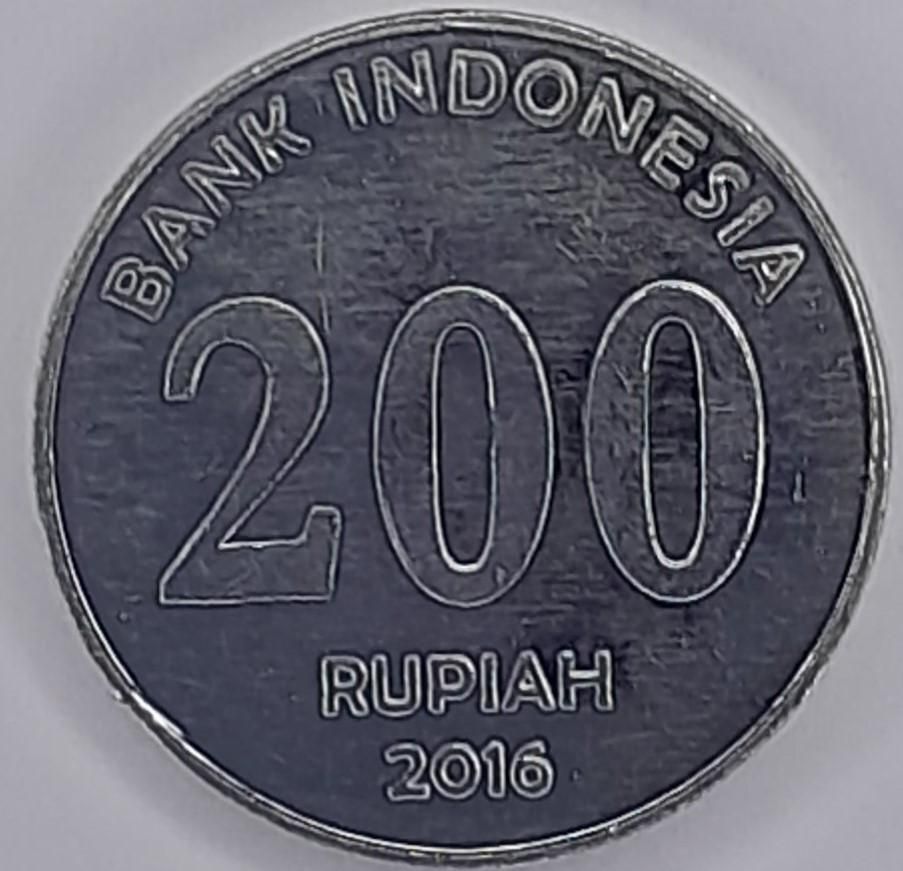coin_200_e2016: (0, 15, 903, 871)
